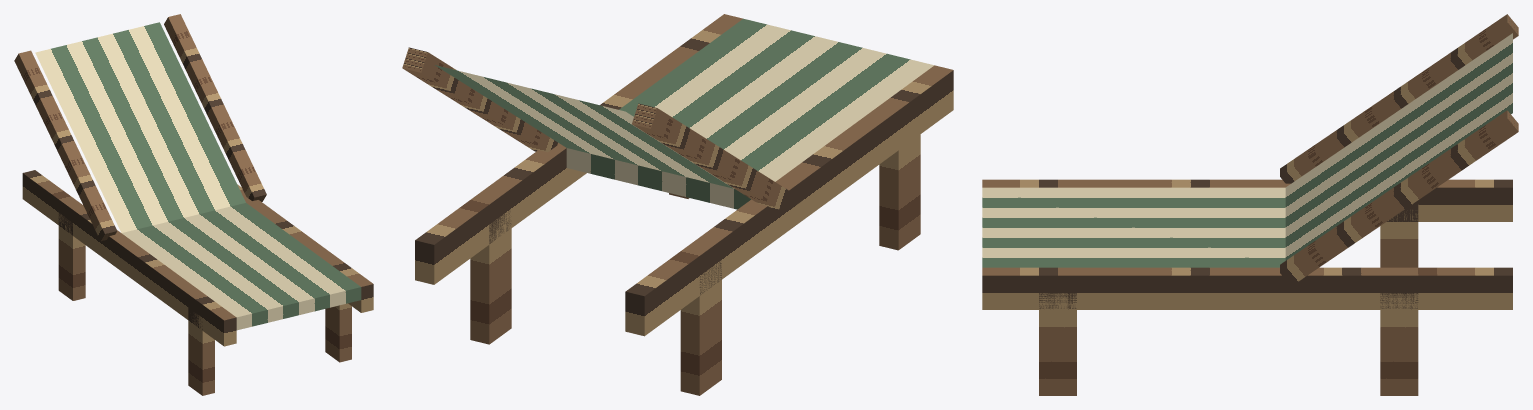
The model's file is beach_lounger.gltf.
3 views of the same model, side by side, from view 1: azimuth 30°, elevation 25°; view 2: azimuth 150°, elevation 25°; view 3: azimuth 270°, elevation 25° (orthographic). The views are drawn at different scales.
Visible parts, largest first — view 1: backrest, seat, side_rail (×2), back_frame (×2), leg (×3); view 2: side_rail (×2), seat, leg (×3), backrest, back_frame (×2); view 3: side_rail (×2), seat, backrest, back_frame (×2), leg (×3).
Boxes of the visible parts, x1,y1,x2,y2 form: backrest: (35, 22, 245, 232); seat: (122, 203, 361, 330); side_rail (×2): (22, 170, 373, 346); back_frame (×2): (14, 14, 266, 241); leg (×3): (58, 213, 351, 395); side_rail (×2): (415, 14, 953, 336); seat: (566, 18, 933, 209); leg (×3): (470, 134, 920, 395); backrest: (435, 65, 734, 188); back_frame (×2): (402, 47, 789, 211); side_rail (×2): (982, 179, 1512, 309); seat: (982, 187, 1285, 267); backrest: (1285, 33, 1512, 260); back_frame (×2): (1280, 14, 1518, 286); leg (×3): (1039, 204, 1418, 395).
Size of the model in its own units: 0.8125 by 1.02 by 1.77.
Materials: 2 (2 with a texture image).
